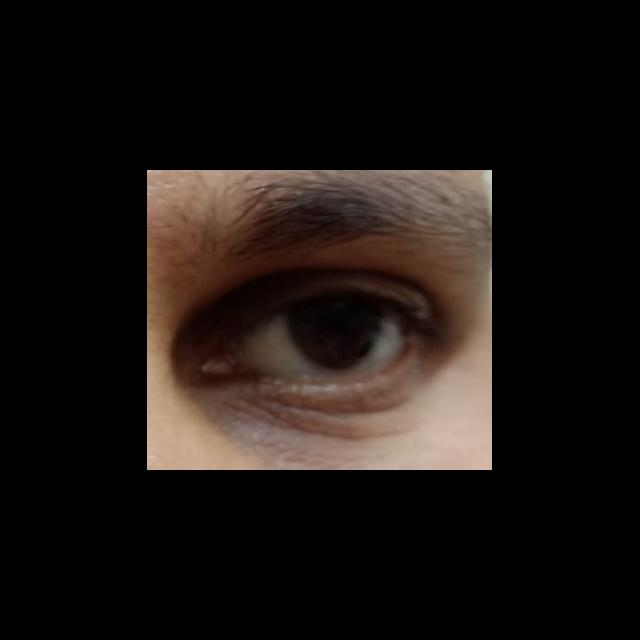eye: (237, 293, 408, 378)
iris: (286, 295, 383, 372)
